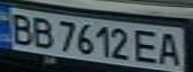1: (90, 24, 112, 58)
2: (109, 25, 133, 61)
6: (75, 21, 96, 56)
7: (54, 18, 78, 53)
A: (154, 29, 187, 68)
B: (3, 10, 36, 45), (27, 15, 57, 48)
E: (133, 27, 163, 65)
